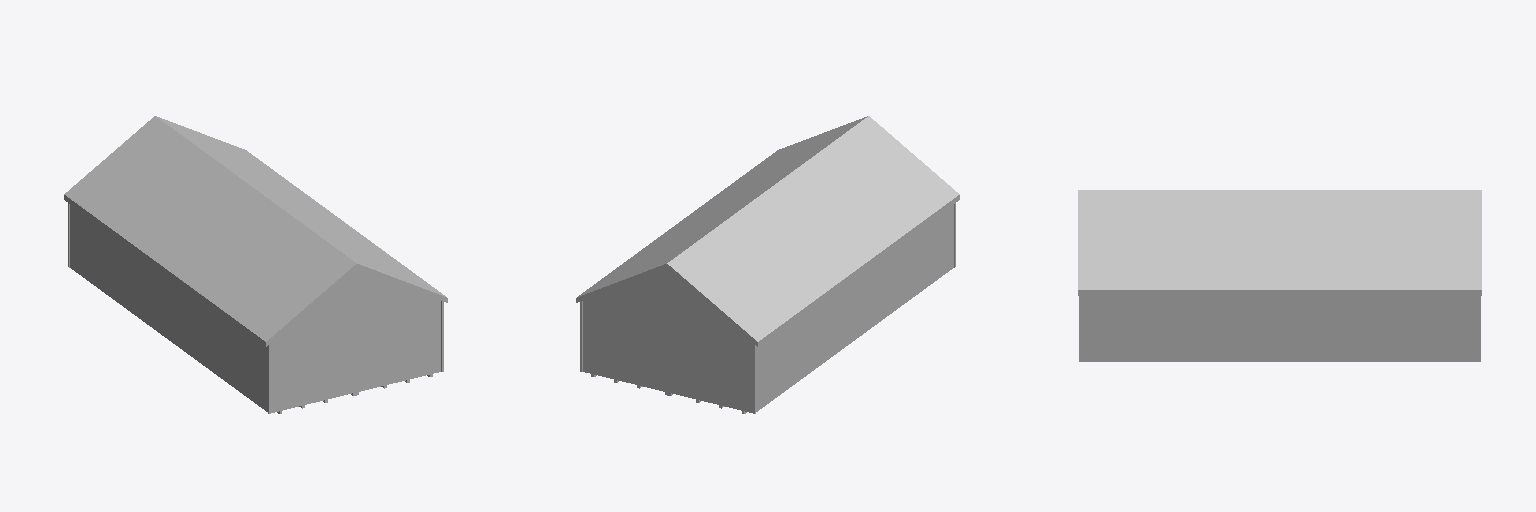
File: Double Garage 6-12 PITCH ROOF_20x40.obj
The picture shows the model from 3 angles: view 1: azimuth 30°, elevation 25°; view 2: azimuth 150°, elevation 25°; view 3: azimuth 270°, elevation 25°; orthographic projection.
Parts seen in each view (by area): view 1: Double Garage 6-12 PITCH ROOF_20x40.obj; view 2: Double Garage 6-12 PITCH ROOF_20x40.obj; view 3: Double Garage 6-12 PITCH ROOF_20x40.obj.
Part boxes in pixels (bbox=[...]): Double Garage 6-12 PITCH ROOF_20x40.obj: bbox=[64, 116, 447, 413]; Double Garage 6-12 PITCH ROOF_20x40.obj: bbox=[576, 116, 959, 413]; Double Garage 6-12 PITCH ROOF_20x40.obj: bbox=[1078, 190, 1481, 361].
Bounding box in the file's own units: 6.4 × 4.46 × 12.29.